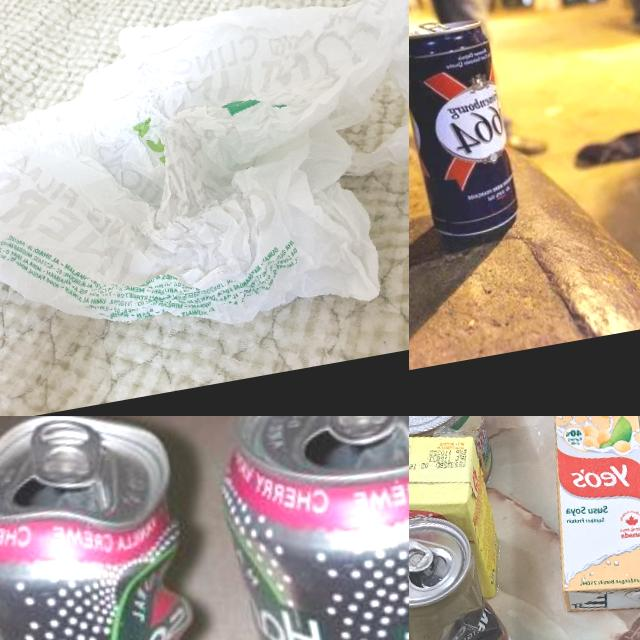aba de lata: (21, 416, 109, 495), (313, 416, 404, 448), (409, 529, 435, 579), (418, 18, 450, 34)
caixinha: (528, 416, 640, 620), (409, 418, 499, 615)
lata: (0, 416, 242, 640), (203, 416, 409, 640), (409, 11, 522, 243), (409, 504, 527, 640), (409, 416, 493, 496)
sacola plástica: (0, 0, 409, 377)
